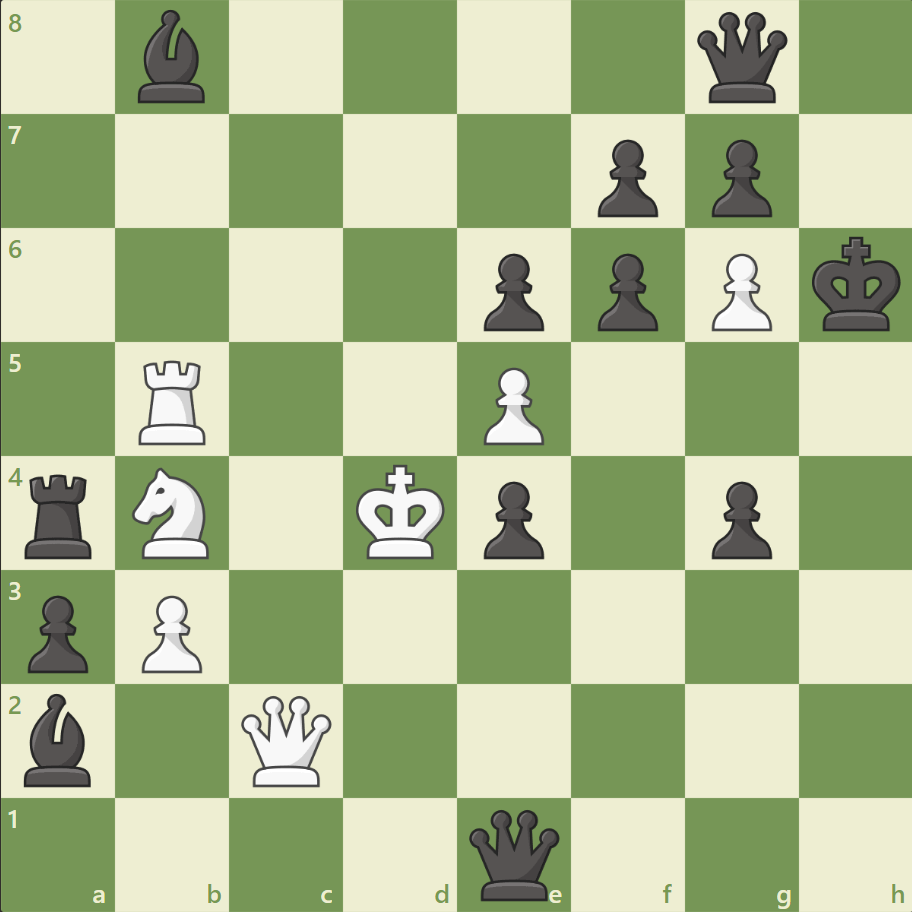K: (351, 458, 451, 566)
N: (124, 461, 222, 564)
P: (701, 246, 776, 337), (474, 359, 549, 450), (133, 586, 208, 677)
Q: (237, 690, 336, 789)
R: (133, 352, 215, 449)
b: (131, 6, 215, 109), (17, 687, 101, 790)
k: (806, 231, 906, 339)
p: (701, 132, 776, 223), (474, 246, 549, 337), (474, 473, 549, 564), (701, 473, 776, 564), (20, 586, 95, 677), (588, 132, 662, 223), (588, 246, 662, 337)
q: (691, 9, 790, 108), (464, 804, 563, 903)
r: (19, 466, 102, 563)
